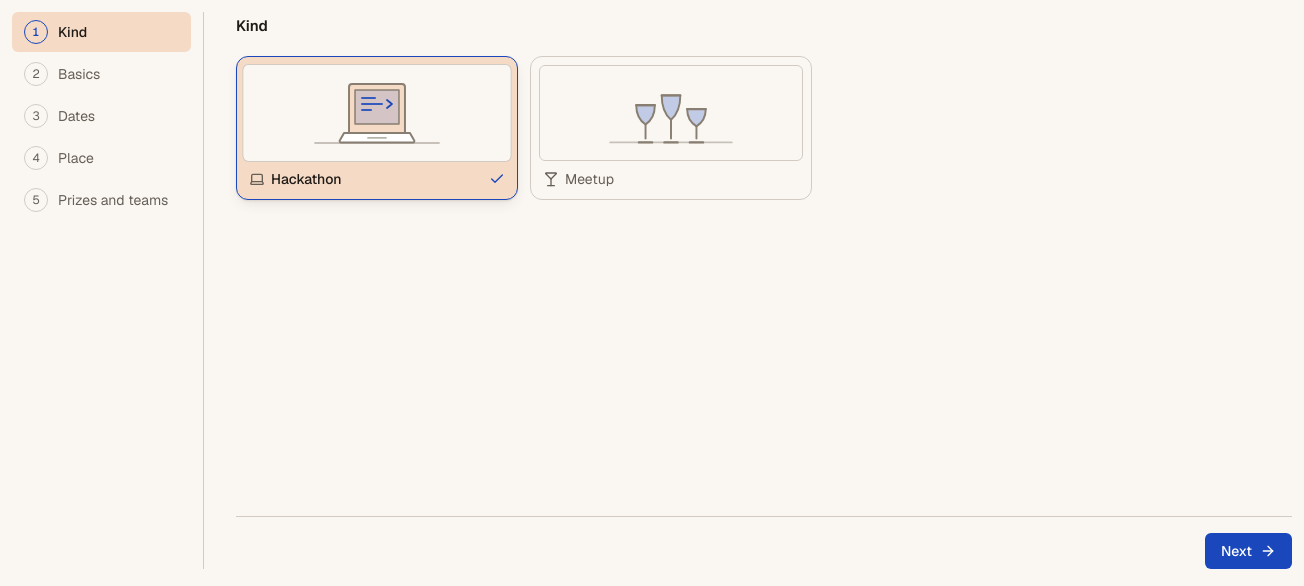
Test: the kind is the first stage and switching keeps what was typed › brings the shared fields back when the kind is switched again
Click the button "2 Basics" at (102, 74), box [12, 54, 191, 94]
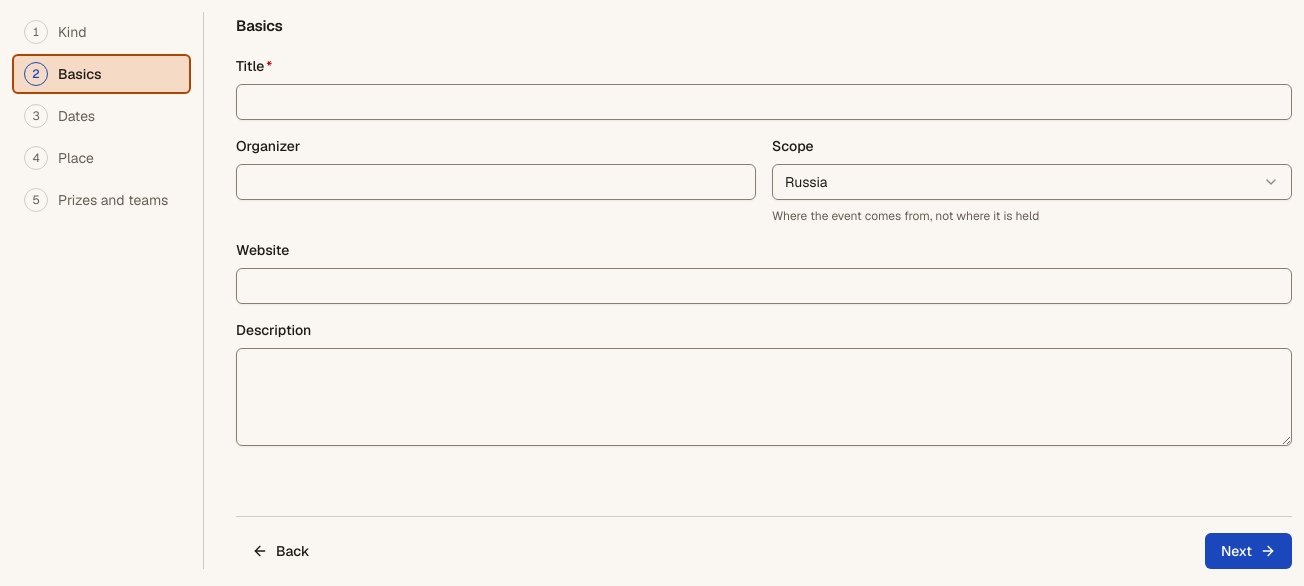
Type "Round trip" into the field with id "event-title" at (764, 102), box [236, 84, 1292, 120]
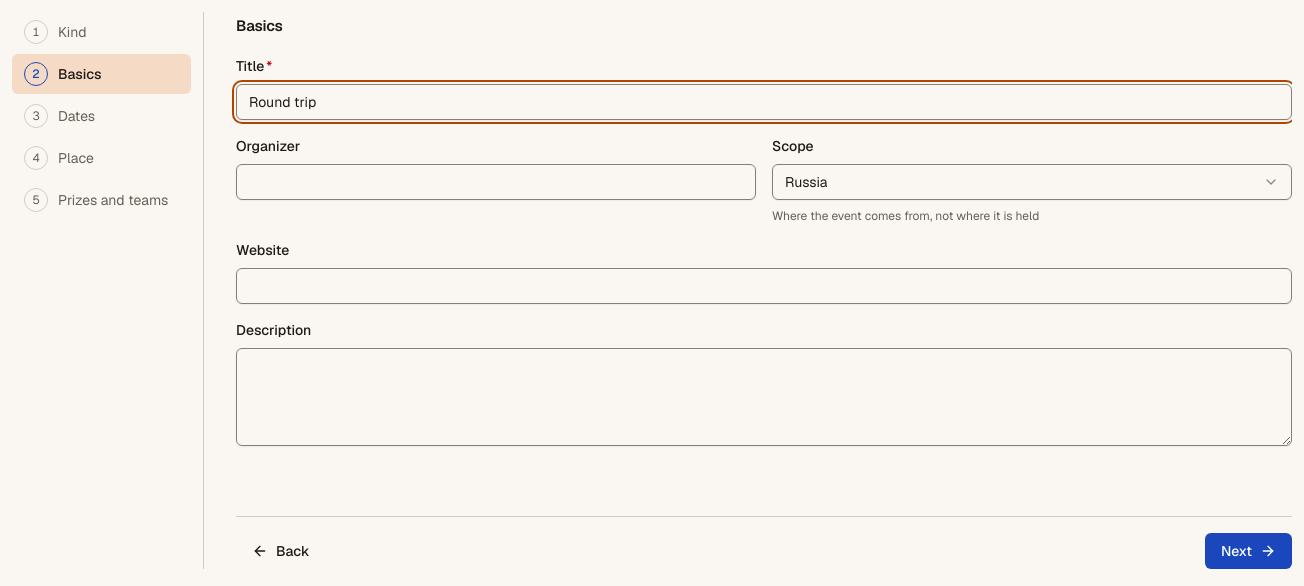
Click the button "1 Kind" at (102, 32), box [12, 12, 191, 52]
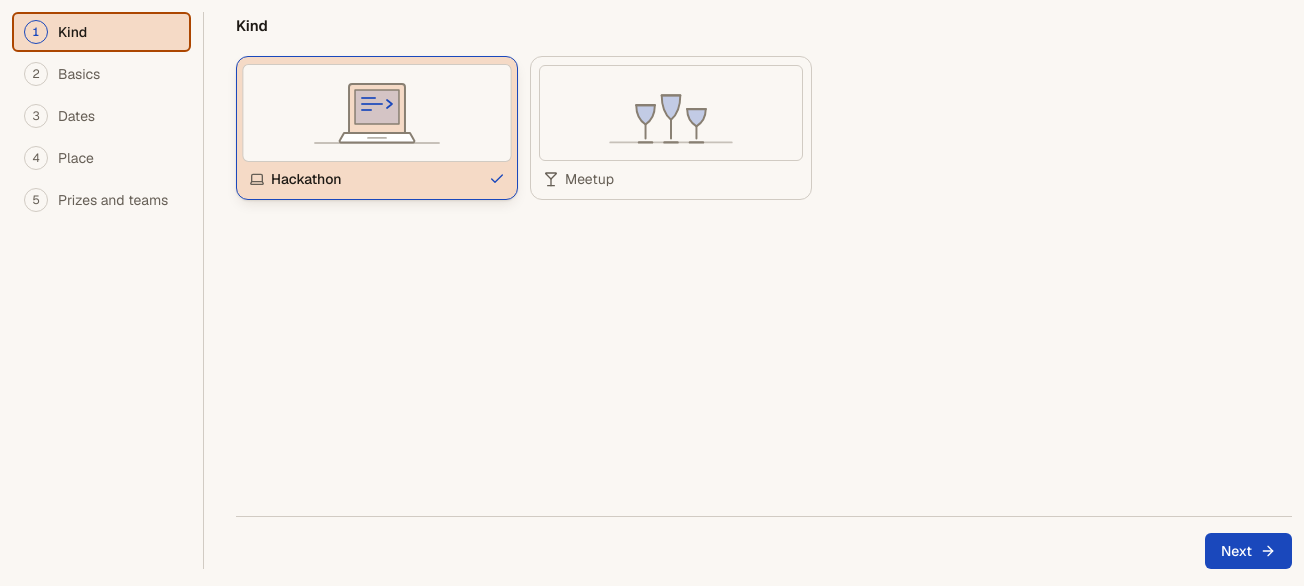
Click the text "Meetup" at (590, 179), box [565, 169, 614, 189]
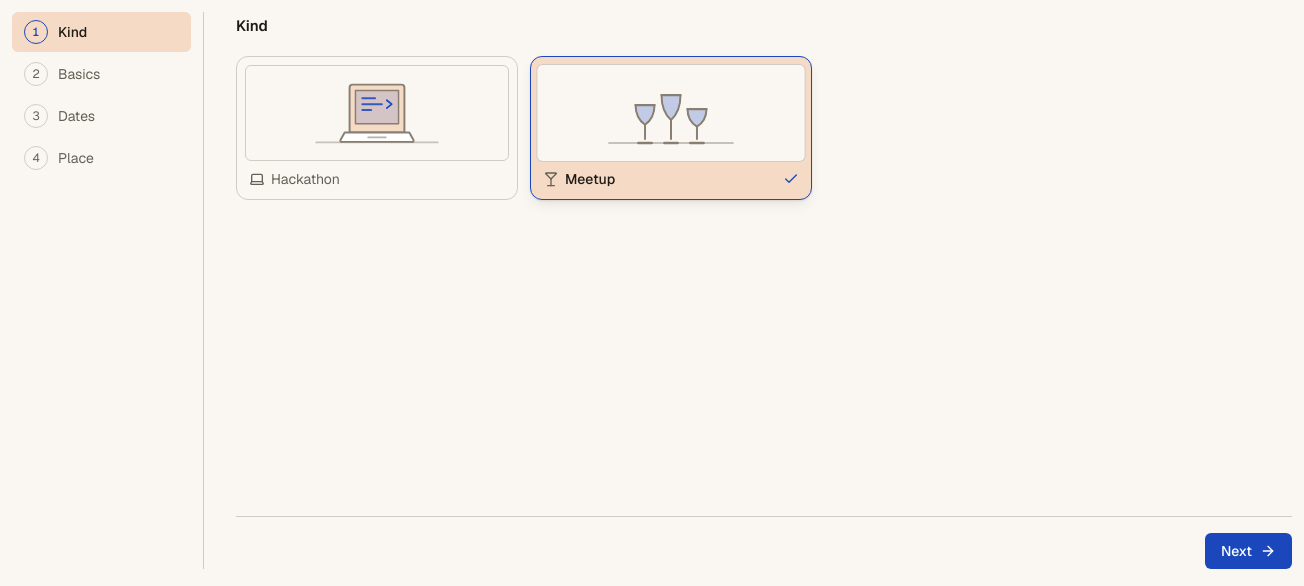
Click the text "Hackathon" at (305, 179), box [271, 169, 340, 189]
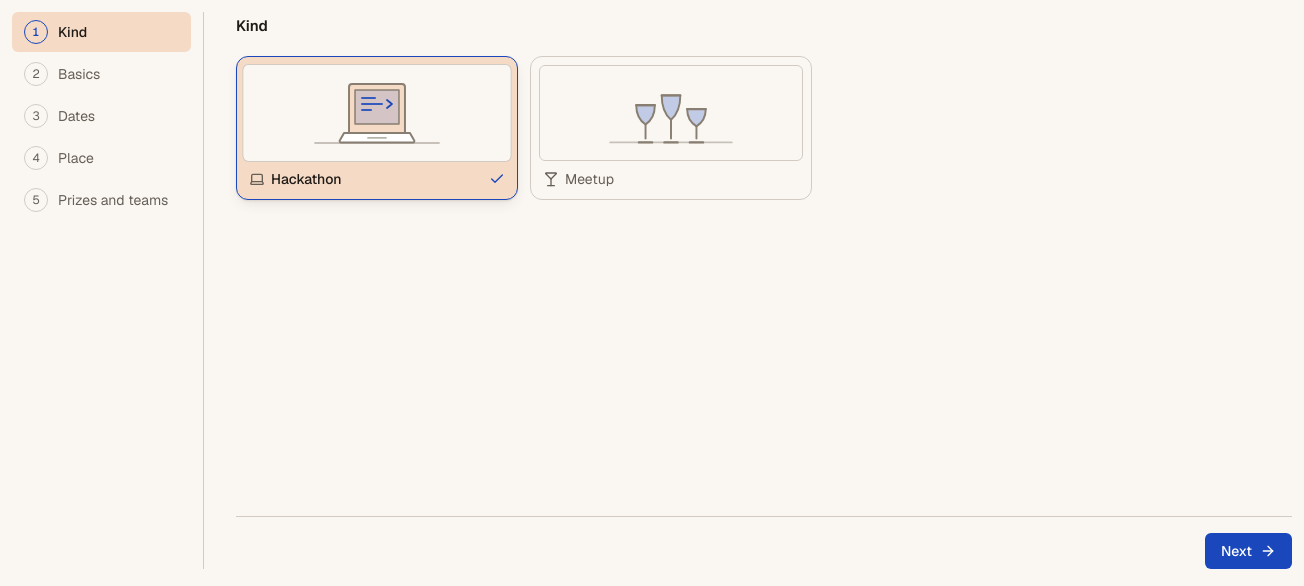
Click the button "2 Basics" at (102, 74), box [12, 54, 191, 94]
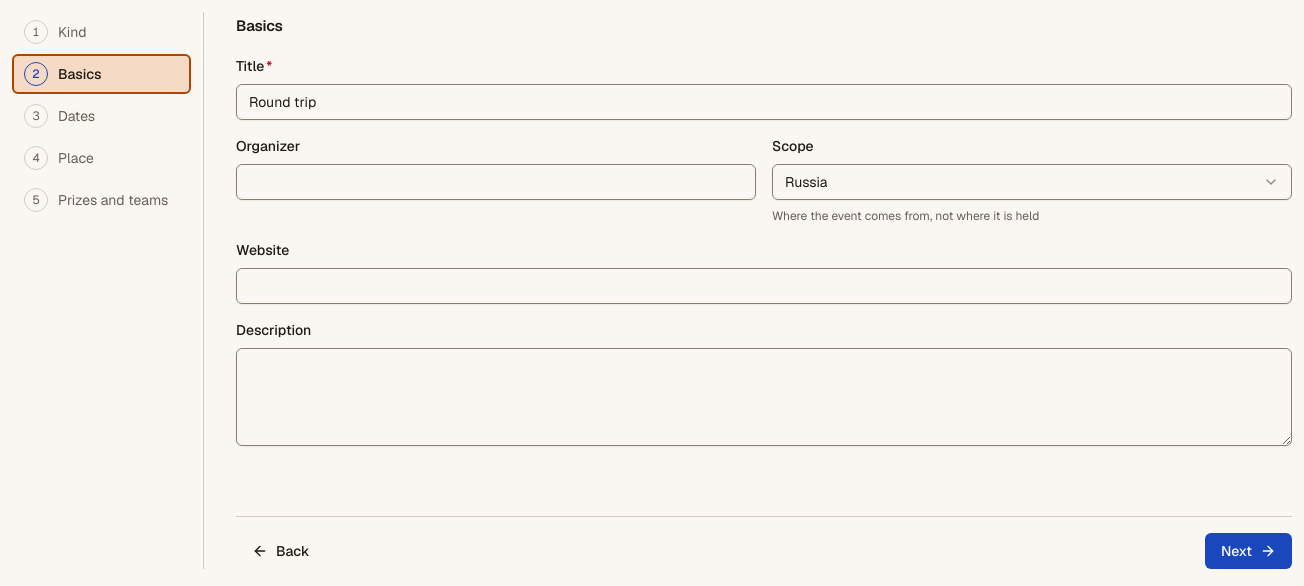
Expected: the field with id "event-title" holds "Round trip", [236, 84, 1292, 120]
